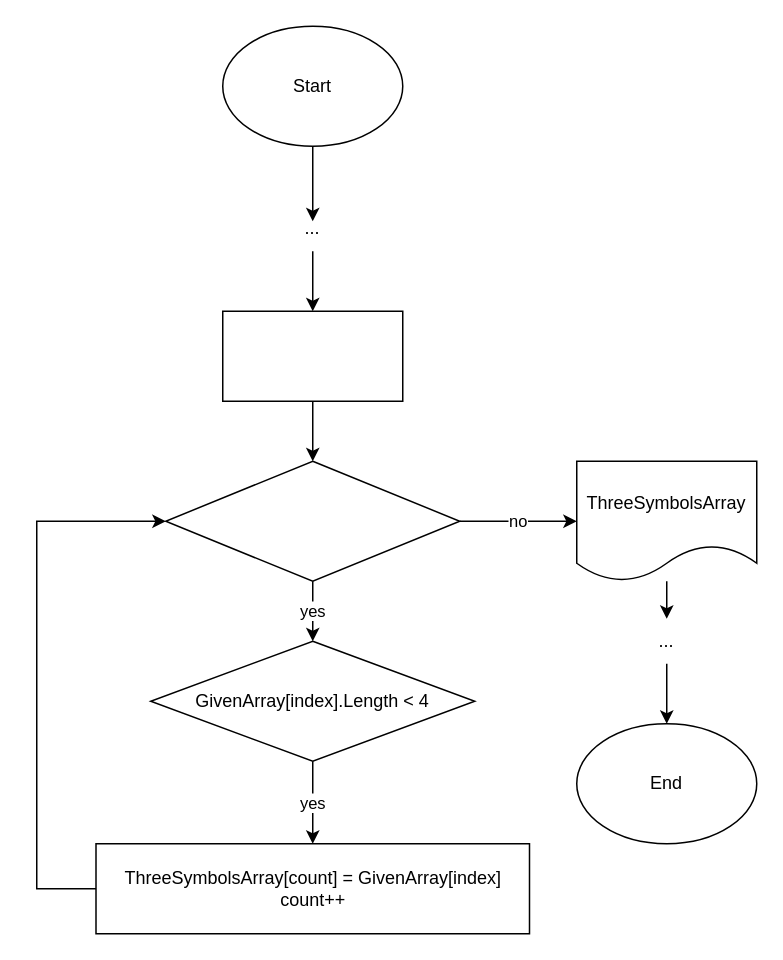
The diagram is 783 pixels wide and 960 high, and some of its shapes have lost their labels. Here are the shapes that lost their labels. From the top down, the centre of each, then its label:
the point at 312,355: index = 0 count = 0 GivenArray
the point at 312,520: index < GivenArray.Length
